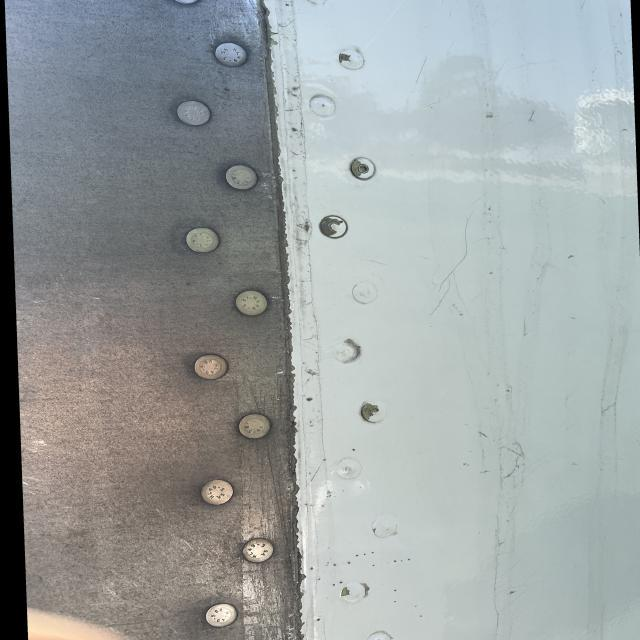crack: (419, 212, 502, 331), (495, 442, 527, 484)
